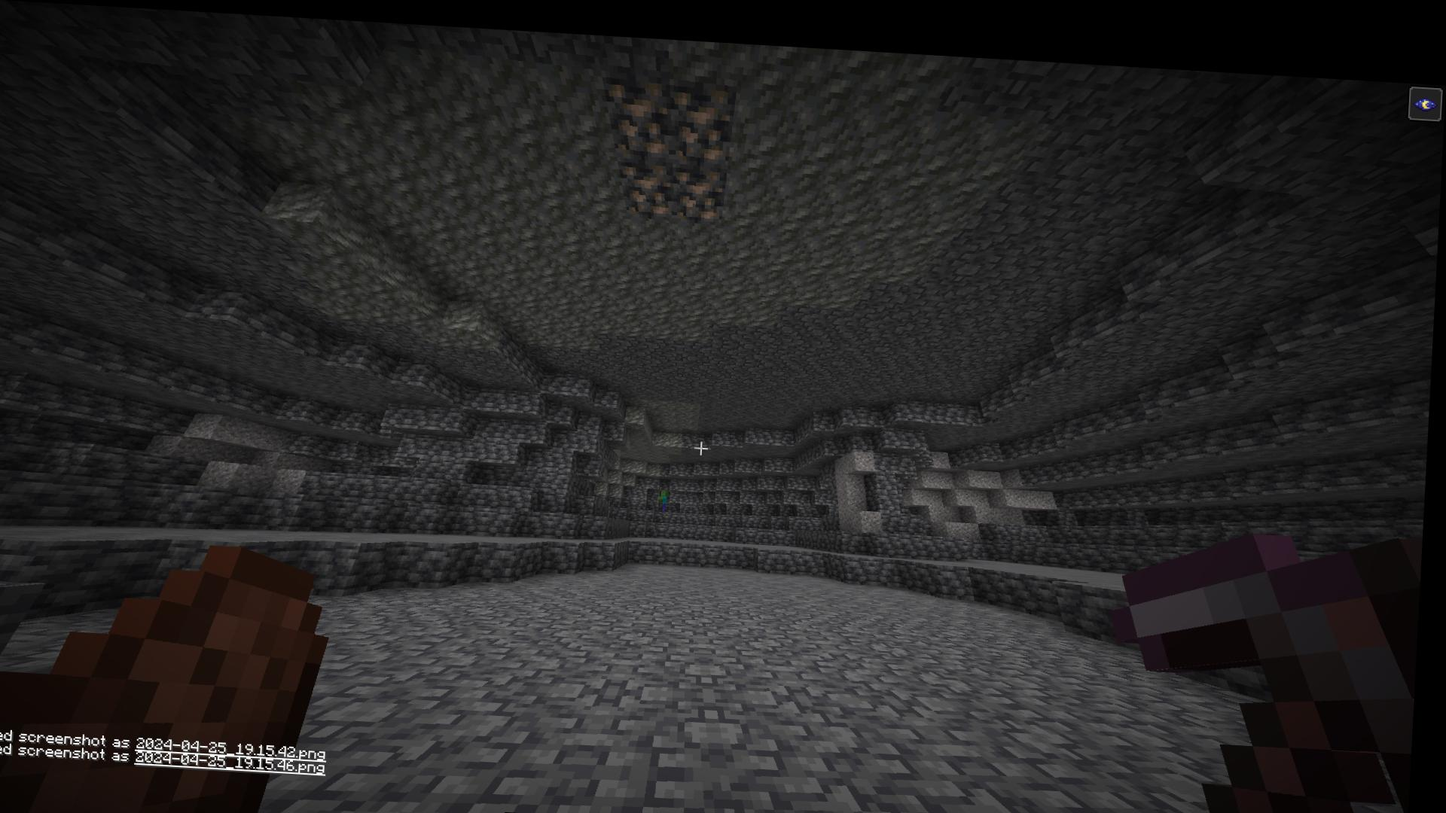iron ore: (601, 70, 674, 147), (670, 73, 734, 158), (619, 151, 677, 215), (670, 154, 729, 216)
